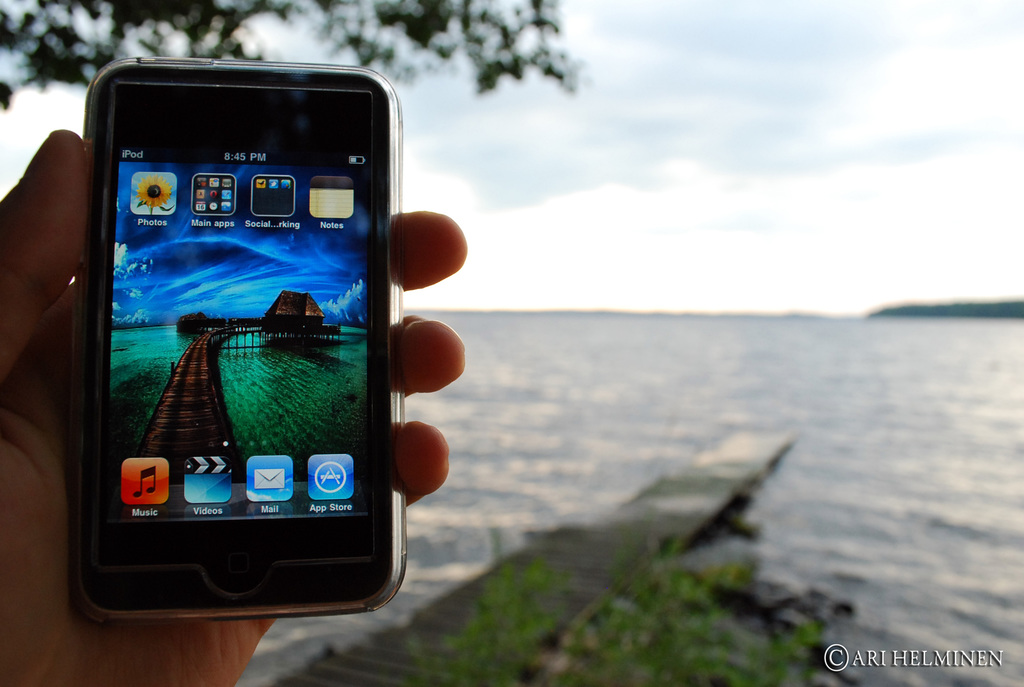Mobile-phone: (76, 60, 401, 620)
